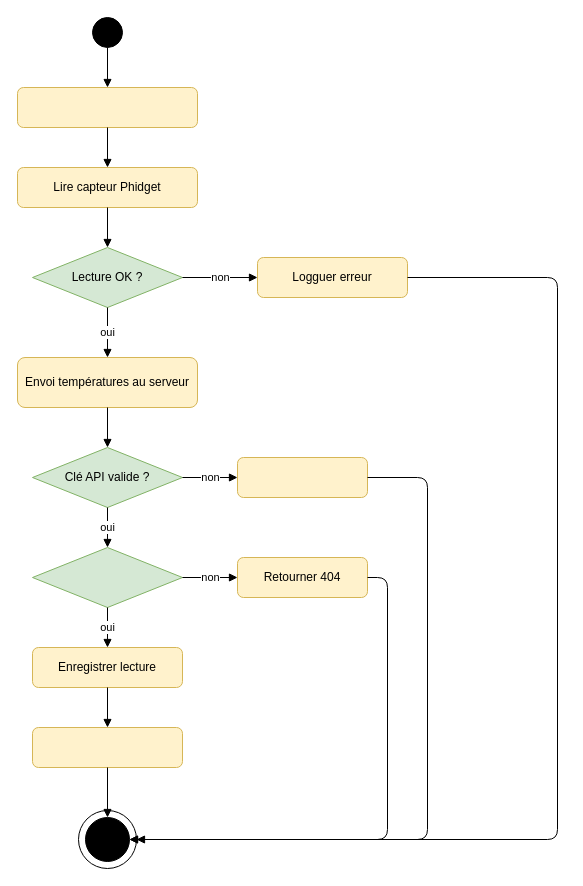
This 583x886 diagram has some shape labels left out. The centre of each missing label's shape, as x and y in pixels:
Attendre X secondes: [107,107]
Capteur trouvé ?: [107,577]
Retourner 201 Created: [107,747]
Retourner 401: [302,477]
